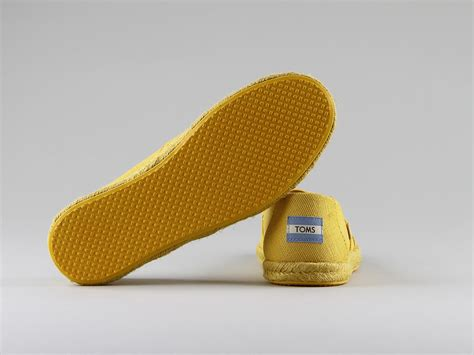nylon: (263, 191, 352, 265)
